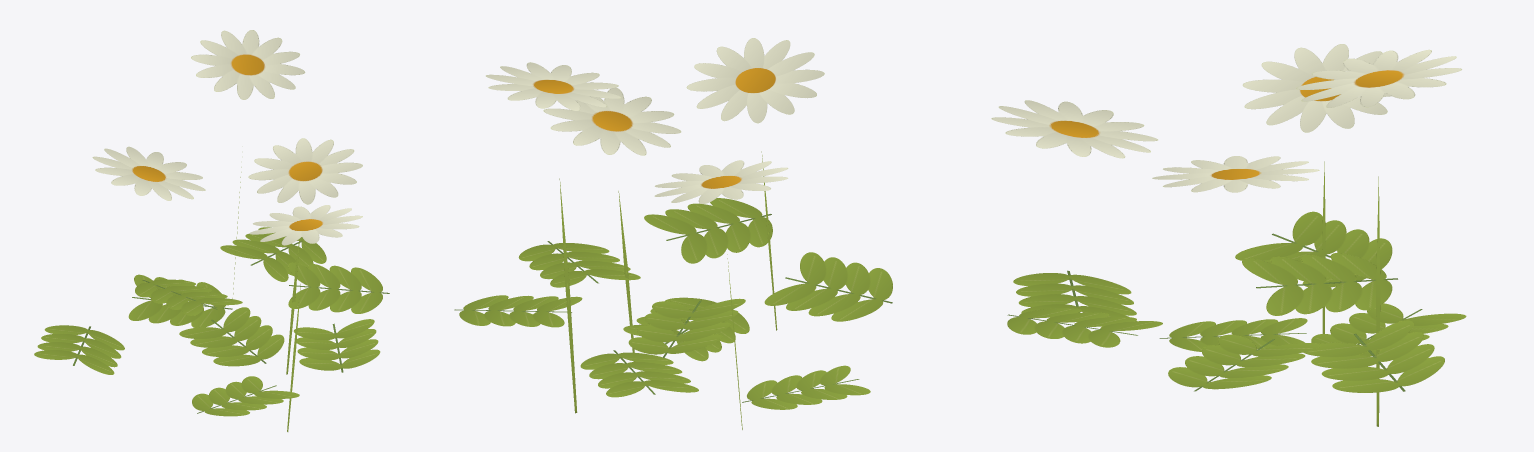
File: Furn_Flower_Daisy.fbx
3 views of the same model, side by side, from view 1: azimuth 30°, elevation 25°; view 2: azimuth 150°, elevation 25°; view 3: azimuth 270°, elevation 25° (orthographic). The views are drawn at different scales.
Parts seen in each view (by area): view 1: Furn_Flower_Daisy; view 2: Furn_Flower_Daisy; view 3: Furn_Flower_Daisy.
Part boxes in pixels (<box>): Furn_Flower_Daisy: <box>34,30,389,431</box>; Furn_Flower_Daisy: <box>454,38,892,429</box>; Furn_Flower_Daisy: <box>991,44,1466,426</box>.
Size of the model in its own units: 0.2 by 0.15 by 0.2.
Materials: 1 (1 with a texture image).
